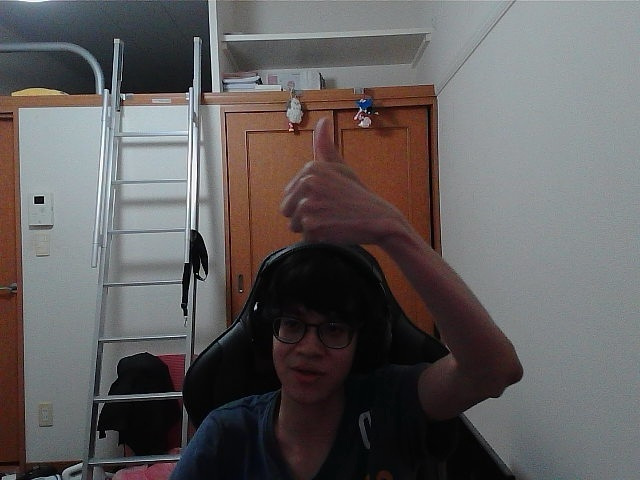thumb_up: (289, 126, 377, 239)
